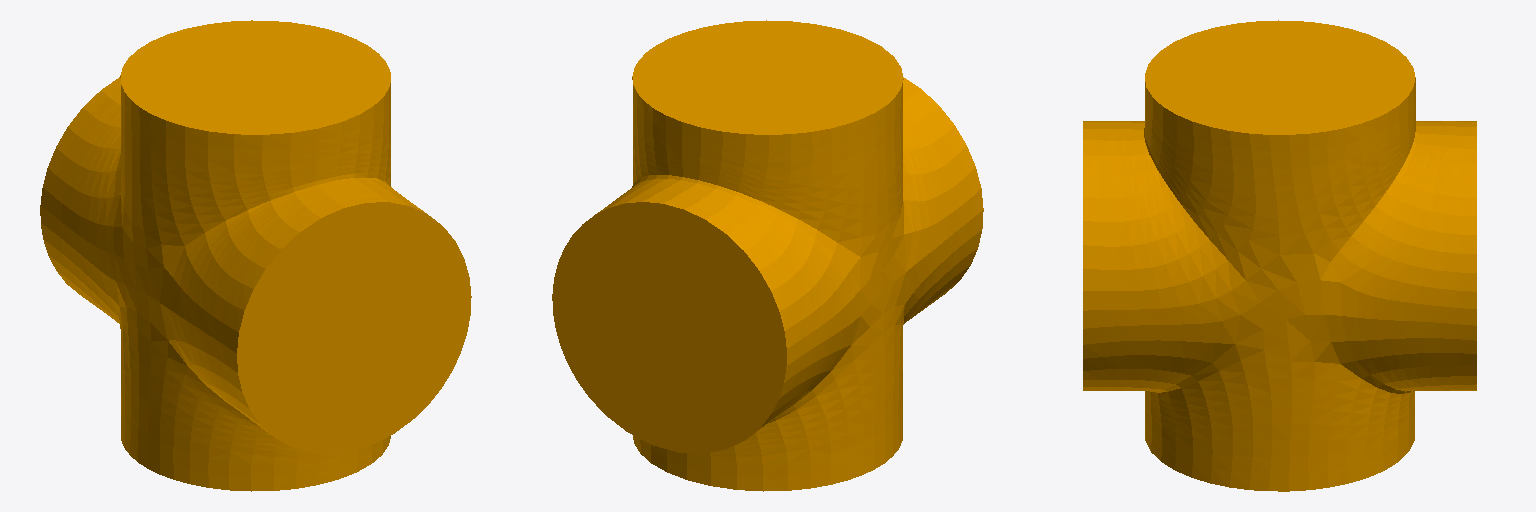
URDF robot description (object):
<robot name="object">
  <link name="object">
    <visual>
      <origin xyz="0 0 0"/>
      <geometry>
        <mesh filename="visual.obj" scale="1 1 1"/>
      </geometry>
    </visual>
    <collision>
      <origin xyz="0 0 0"/>
      <geometry>
        <mesh filename="visual.obj" scale="1 1 1"/>
      </geometry>
    </collision>
    <inertial>
      <mass value="0.05"/>
      <inertia ixx="6.143056009130198e-05" iyy="4.5432423421056336e-05" izz="4.542799801669066e-05" ixy="-3.21633496050175e-10" ixz="-5.238318474907067e-09" iyz="-1.3284142583279503e-08"/>
    </inertial>
  </link>
</robot>

--- Facts derived from the render (not from the file) ---
The picture shows the robot from 3 angles, left to right: view 1: azimuth 30°, elevation 25°; view 2: azimuth 150°, elevation 25°; view 3: azimuth 270°, elevation 25°; orthographic projection.
Robot: object — 1 links, 0 joints (none); root link object; default pose: every joint at zero.
Visible links, largest first — view 1: object; view 2: object; view 3: object.
Link boxes in pixels (x1,y1,x2,y2): object: (40,20,471,491); object: (552,20,983,491); object: (1083,20,1476,491).
Size in the robot's own frame: 0.0662 by 0.096 by 0.096 metres.
Meshes: 1 distinct files referenced, 1 mesh visuals loaded (1 OBJ).
